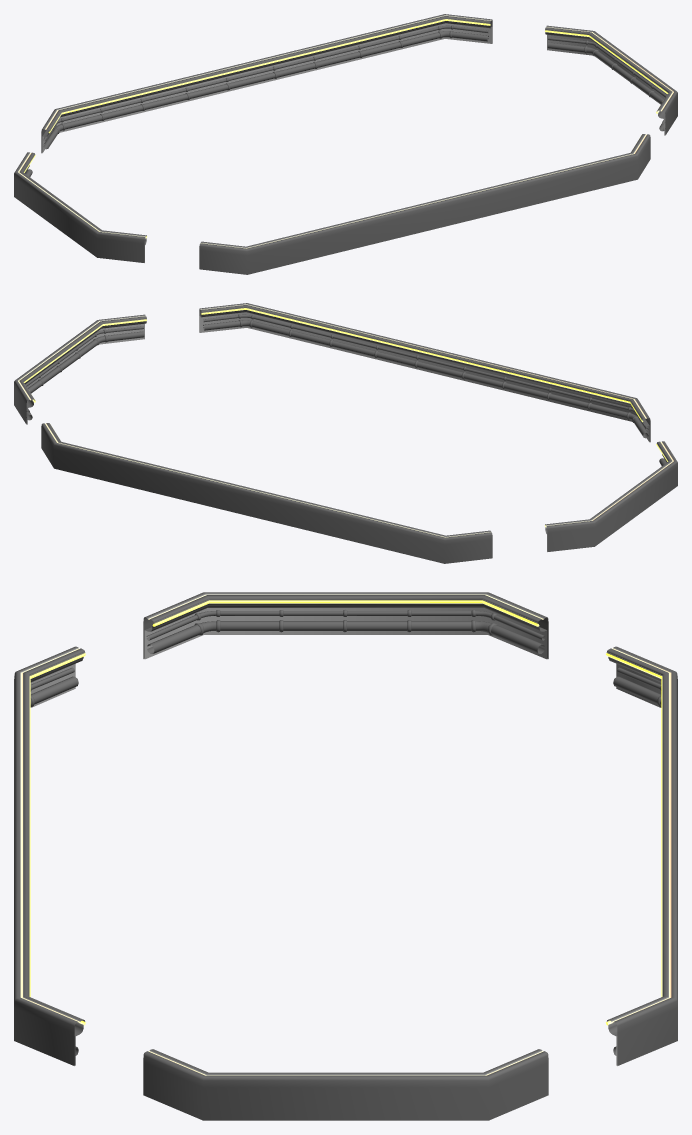
File: mesh_Factory_Wall.fbx
The picture shows the model from 3 angles, top to bottom: view 1: azimuth 30°, elevation 25°; view 2: azimuth 150°, elevation 25°; view 3: azimuth 270°, elevation 25°; orthographic projection. The views are drawn at different scales.
Parts seen in each view (by area): view 1: mesh_Factory_Walls; view 2: mesh_Factory_Walls; view 3: mesh_Factory_Walls.
Part boxes in pixels (box(x1,y1,x2,y2)): mesh_Factory_Walls: box(14, 14, 677, 274); mesh_Factory_Walls: box(14, 303, 677, 563); mesh_Factory_Walls: box(14, 592, 677, 1120).
Bounding box in the file's own units: 58.78 × 2.4 × 33.89.
